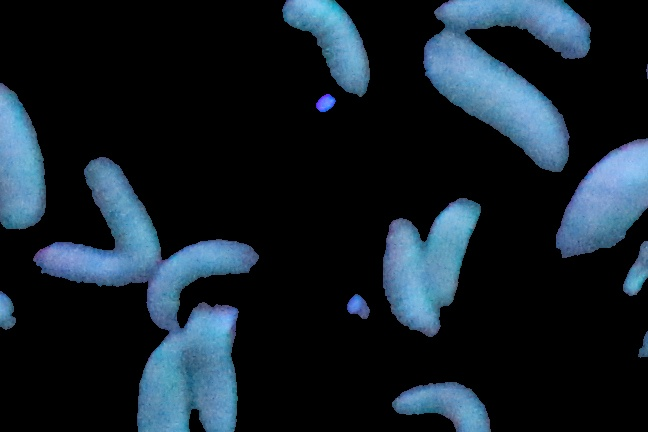larvae: (425, 30, 569, 169), (556, 128, 648, 260), (144, 231, 262, 330), (358, 218, 436, 346), (278, 1, 372, 97), (434, 1, 596, 54), (82, 155, 154, 257), (1, 81, 48, 237), (129, 327, 191, 432), (185, 314, 240, 432), (430, 201, 481, 305), (28, 243, 148, 283), (392, 382, 488, 432)
